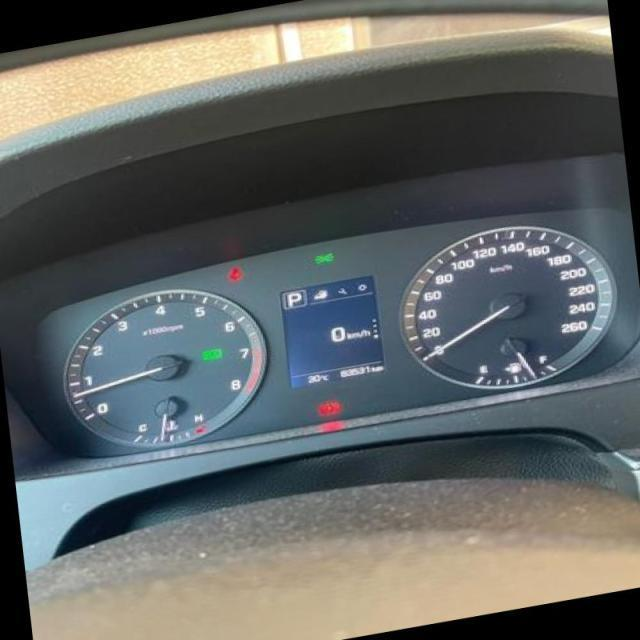Seat Belt: (228, 266, 244, 284)
